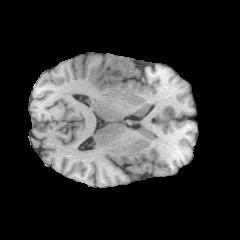glioma: (88, 54, 147, 90)
